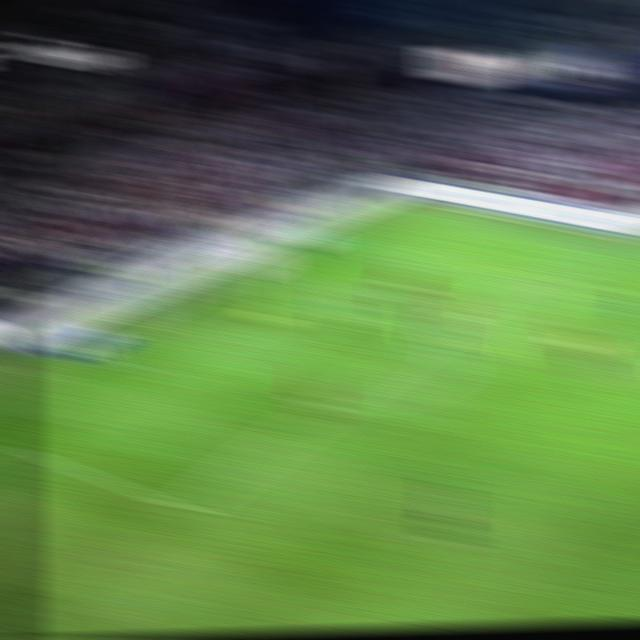bigarea_bottom_inner: (165, 492, 207, 521)
bigarea_top_inner: (494, 266, 532, 290)
bigarea_top_outter: (316, 229, 352, 247)
bottom_arc_area_intersection: (308, 398, 345, 420)
corner: (391, 194, 429, 209)
smallarea_bottom_inner: (137, 359, 177, 385)
smallarea_bottom_outter: (73, 344, 110, 363)
smallarea_top_inner: (299, 279, 334, 297)
smallarea_top_outter: (241, 266, 277, 283)
top_arc_area_intersection: (417, 322, 456, 344)
